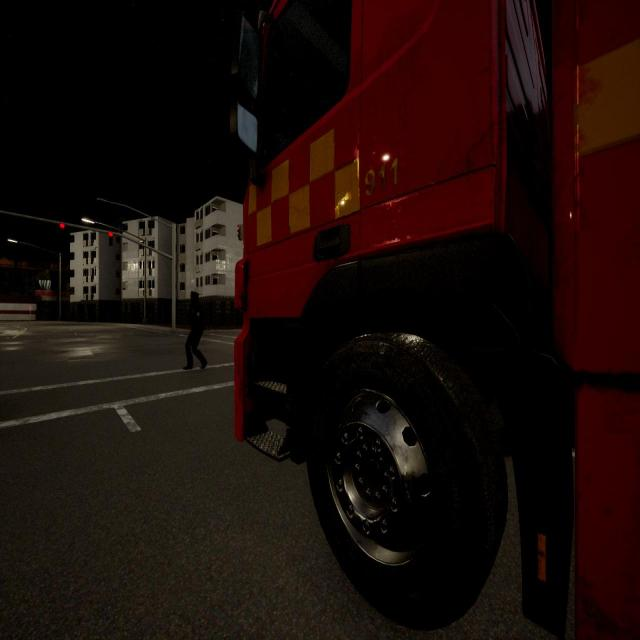Pedestrian: (184, 291, 207, 370)
Vehicle: (237, 0, 640, 640)
traffic_light: (238, 225, 243, 240), (60, 223, 64, 236), (109, 232, 113, 245)
